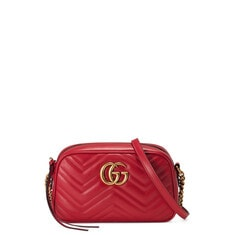Gucci: (46, 141, 191, 231), (97, 161, 134, 187)
